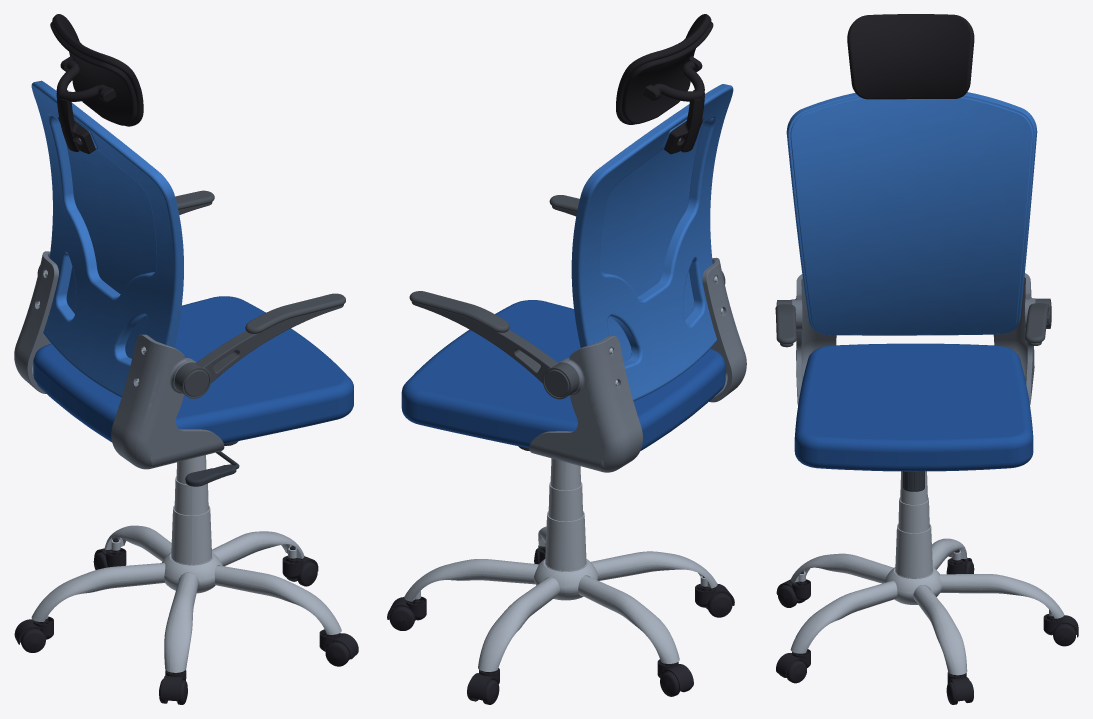
The model's file is cadeira-cad.glb.
3 views of the same model, side by side, from view 1: azimuth 30°, elevation 25°; view 2: azimuth 150°, elevation 25°; view 3: azimuth 270°, elevation 25° (orthographic). The views are drawn at different scales.
Parts seen in each view (by area): view 1: Encosto, Assento, Base estrela, Coluna do encosto, Apoio de cabeça, Braços, Rodízios, Mecanismo de regulagem; view 2: Encosto, Assento, Base estrela, Coluna do encosto, Apoio de cabeça, Braços, Rodízios; view 3: Encosto, Assento, Base estrela, Apoio de cabeça, Rodízios, Coluna do encosto, Braços.
Part boxes in pixels (bbox=[...]): Encosto: bbox=[31, 80, 183, 397]; Assento: bbox=[33, 296, 353, 443]; Base estrela: bbox=[31, 455, 341, 672]; Coluna do encosto: bbox=[14, 251, 224, 469]; Apoio de cabeça: bbox=[50, 14, 143, 153]; Braços: bbox=[37, 190, 345, 398]; Rodízios: bbox=[14, 538, 358, 704]; Mecanismo de regulagem: bbox=[185, 441, 239, 486]; Encosto: bbox=[571, 84, 733, 401]; Assento: bbox=[401, 300, 725, 450]; Base estrela: bbox=[404, 458, 717, 671]; Coluna do encosto: bbox=[529, 257, 746, 472]; Apoio de cabeça: bbox=[616, 14, 713, 154]; Braços: bbox=[409, 195, 725, 399]; Rodízios: bbox=[387, 545, 734, 704]; Encosto: bbox=[786, 92, 1037, 335]; Assento: bbox=[794, 343, 1033, 471]; Base estrela: bbox=[790, 471, 1064, 675]; Apoio de cabeça: bbox=[847, 14, 974, 99]; Rodízios: bbox=[776, 549, 1078, 704]; Coluna do encosto: bbox=[791, 273, 1035, 405]; Braços: bbox=[775, 298, 1051, 347].
Size of the model in its own units: 1.8 by 3.6 by 1.71.
